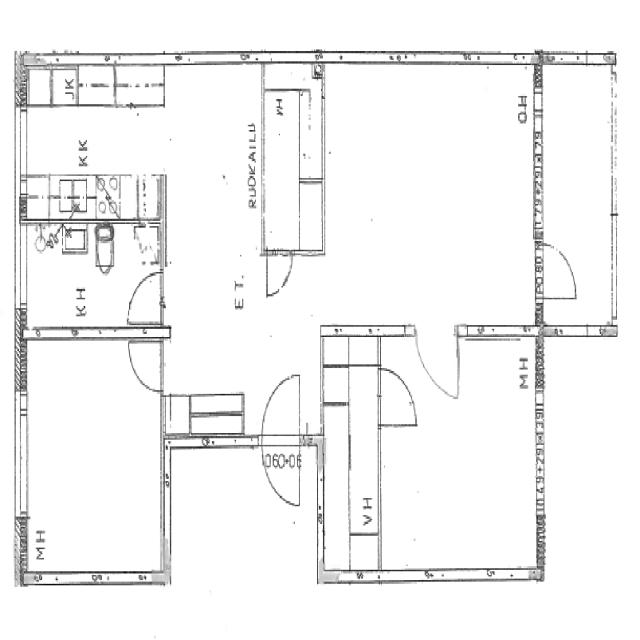door: (259, 368, 304, 467), (418, 328, 460, 404), (378, 362, 418, 430), (539, 240, 580, 302), (125, 268, 163, 327), (126, 336, 163, 394), (266, 248, 294, 298)
window: (11, 394, 34, 525), (12, 223, 30, 314), (548, 321, 607, 344), (14, 105, 30, 183)
zone: (320, 62, 542, 333), (386, 332, 544, 576), (20, 332, 163, 582), (164, 63, 264, 344), (538, 58, 617, 334), (18, 83, 164, 219), (17, 222, 153, 336), (325, 348, 382, 557), (262, 70, 324, 254), (25, 66, 115, 107), (349, 535, 380, 574)
